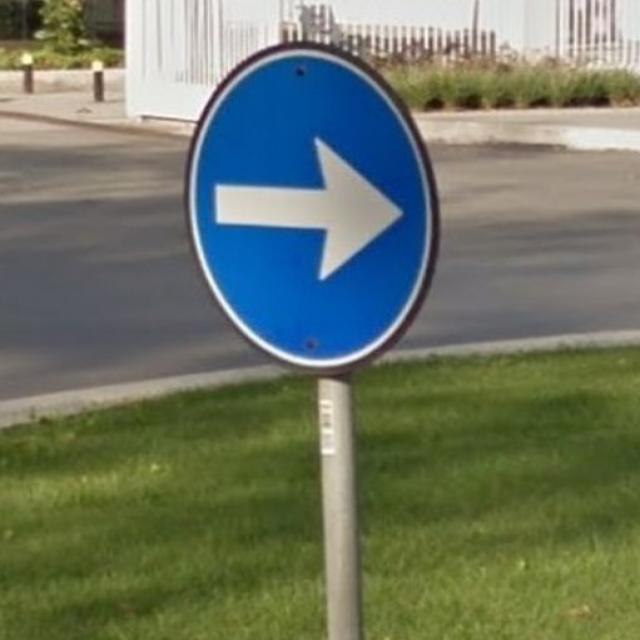Turn Right: (181, 55, 443, 391)
